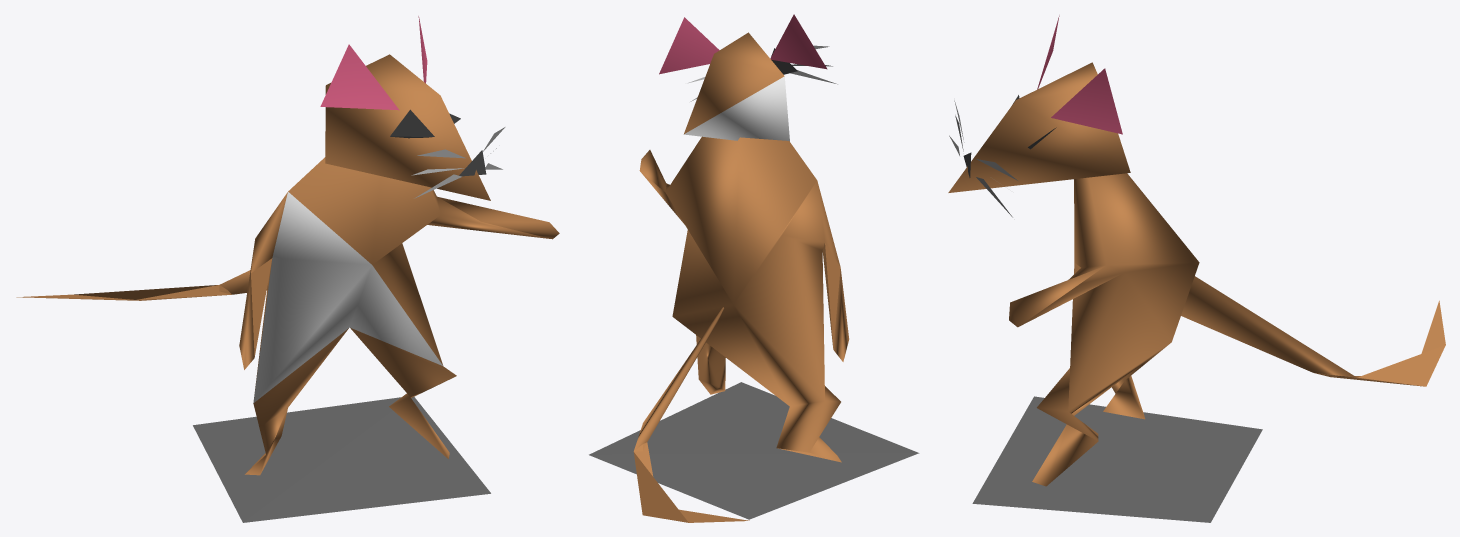
Rendered from WhiskersLOD3.glb.
3 views of the same model, side by side, from view 1: azimuth 30°, elevation 25°; view 2: azimuth 150°, elevation 25°; view 3: azimuth 270°, elevation 25° (orthographic). The views are drawn at different scales.
Parts seen in each view (by area): view 1: WhiskersLOD3; view 2: WhiskersLOD3; view 3: WhiskersLOD3.
Part boxes in pixels (x1,y1,x2,y2): WhiskersLOD3: (16,16,559,522); WhiskersLOD3: (589,14,919,522); WhiskersLOD3: (948,15,1445,522).
Size of the model in its own units: 1.45 by 1.86 by 1.89.
